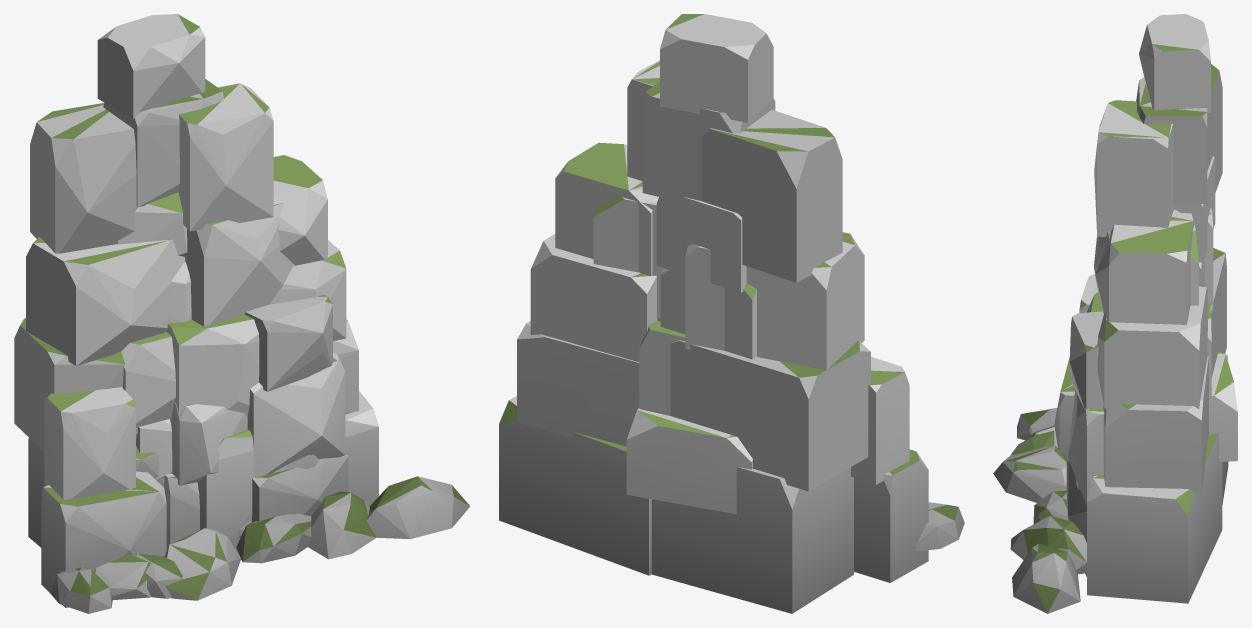
File: rk_crag_2.glb
3 renders of one model, left to right at view 1: azimuth 30°, elevation 25°; view 2: azimuth 150°, elevation 25°; view 3: azimuth 270°, elevation 25°, orthographic. The views are drawn at different scales.
Parts seen in each view (by area): view 1: rk_crag_2; view 2: rk_crag_2; view 3: rk_crag_2.
Part boxes in pixels (bbox=[...]): rk_crag_2: bbox=[14, 14, 470, 613]; rk_crag_2: bbox=[499, 14, 964, 613]; rk_crag_2: bbox=[993, 14, 1237, 613].
Size of the model in its own units: 62.67 by 73.3 by 33.95.
